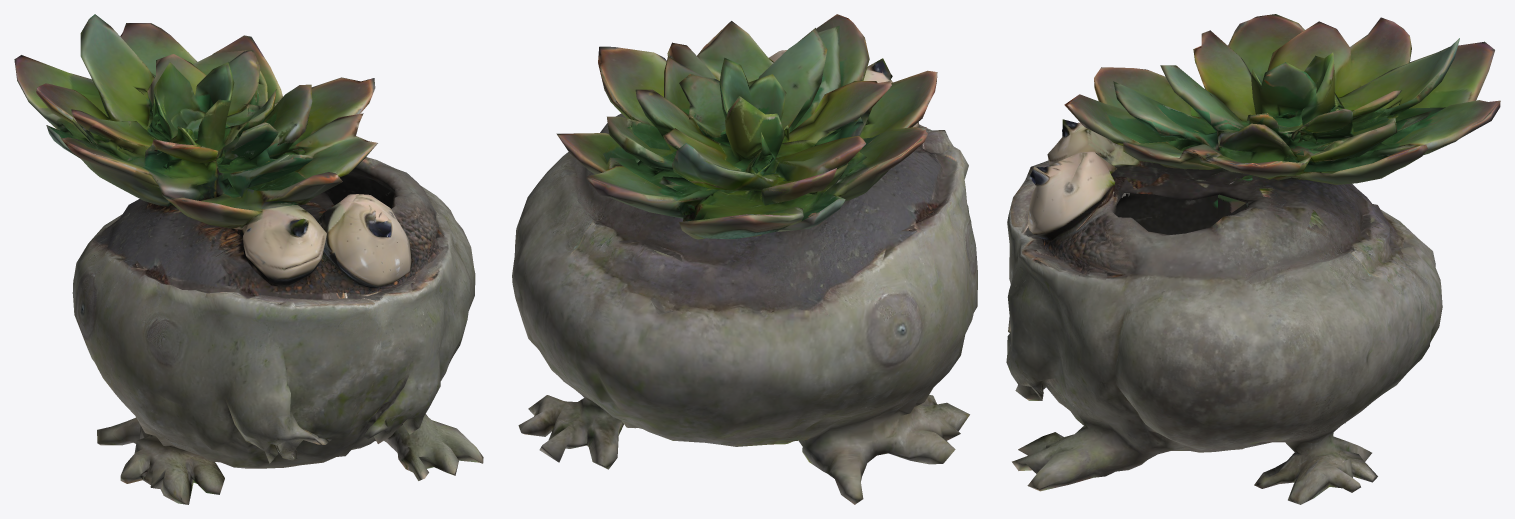
The model's file is Stone_Frog_Planter_0615062220_texture.glb.
The picture shows the model from 3 angles, left to right: view 1: azimuth 30°, elevation 25°; view 2: azimuth 150°, elevation 25°; view 3: azimuth 270°, elevation 25°; orthographic projection. The views are drawn at different scales.
Bounding box in the file's own units: 1.76 × 1.66 × 1.99.
Materials: 1 (1 with a texture image).
